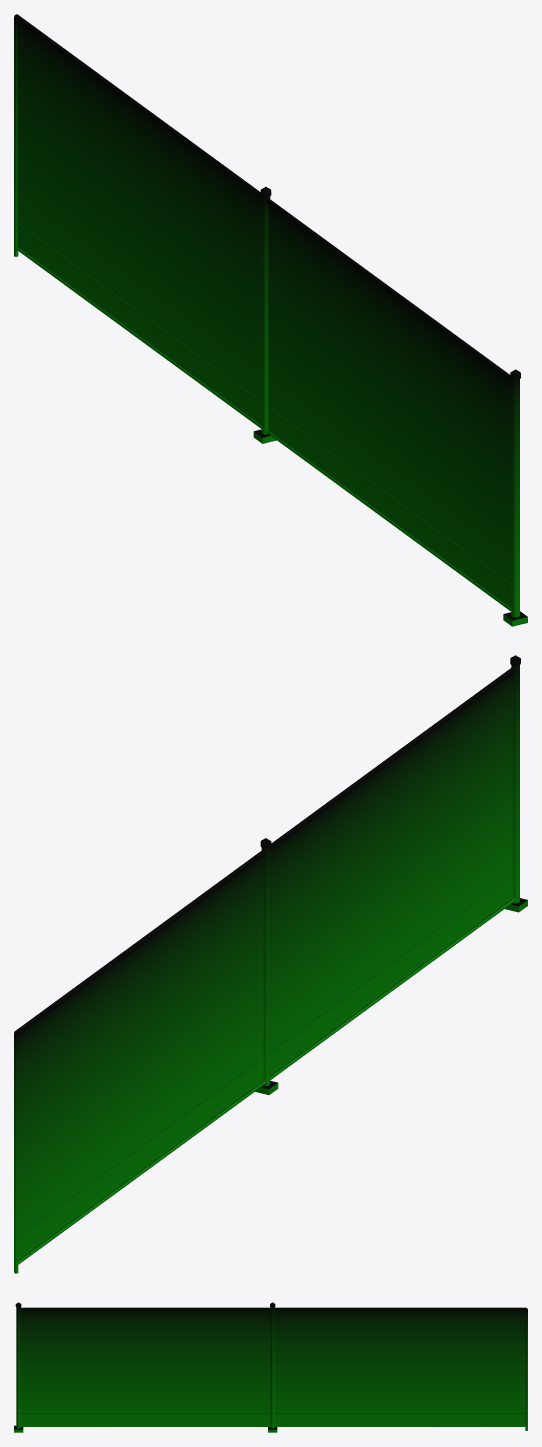
File: wirefencediag.glb
The picture shows the model from 3 angles, top to bottom: view 1: azimuth 30°, elevation 25°; view 2: azimuth 150°, elevation 25°; view 3: azimuth 270°, elevation 25°; orthographic projection. The views are drawn at different scales.
Visible parts, largest first — view 1: lod0; view 2: lod0; view 3: lod0.
Boxes of the visible parts, <box> form: lod0: <box>14,14,527,626</box>; lod0: <box>14,655,527,1273</box>; lod0: <box>14,1302,527,1432</box>.
Size of what is drawn, in the model's own units: 0.22 by 3.37 by 12.24.
